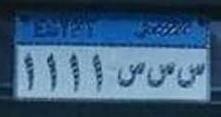1: (91, 51, 106, 91), (22, 52, 36, 91), (70, 51, 82, 90), (47, 52, 57, 90)
seen: (176, 60, 209, 89), (116, 61, 146, 88), (148, 61, 175, 89)
